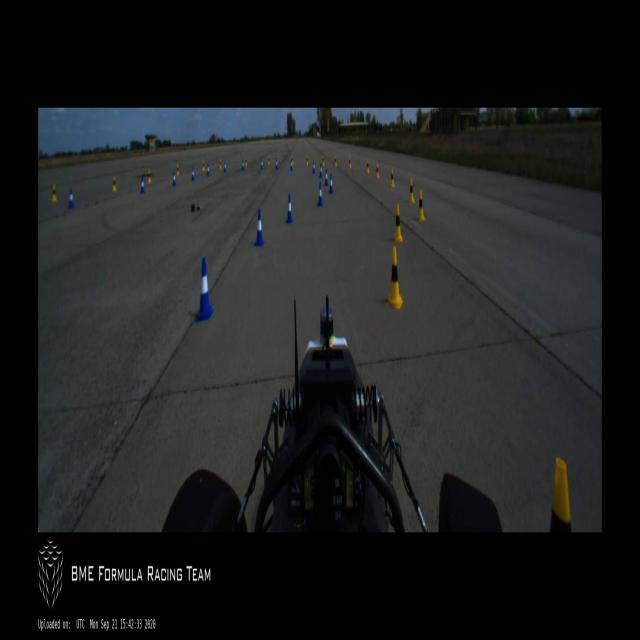blue_cone: (195, 258, 212, 320), (254, 208, 264, 246), (286, 194, 293, 222), (317, 182, 323, 206), (68, 188, 74, 209), (140, 175, 145, 194), (329, 174, 333, 195), (172, 171, 176, 186), (191, 168, 195, 182), (325, 168, 328, 186), (206, 163, 210, 176), (319, 163, 322, 179), (312, 160, 315, 174), (276, 158, 278, 171), (290, 158, 292, 171), (261, 158, 263, 170), (224, 161, 226, 172), (242, 160, 244, 171)
yellow_cone: (549, 457, 572, 532), (387, 246, 402, 308), (393, 204, 403, 242), (417, 190, 425, 222), (408, 178, 414, 204), (51, 183, 57, 203), (390, 168, 394, 188), (112, 175, 116, 192), (147, 170, 151, 184), (376, 162, 379, 180), (366, 158, 369, 174), (322, 155, 325, 168), (348, 156, 351, 169), (176, 165, 179, 177), (334, 155, 336, 168), (202, 160, 204, 171), (292, 156, 294, 167), (306, 156, 308, 167), (219, 160, 221, 169), (245, 158, 247, 167), (268, 157, 270, 166)
